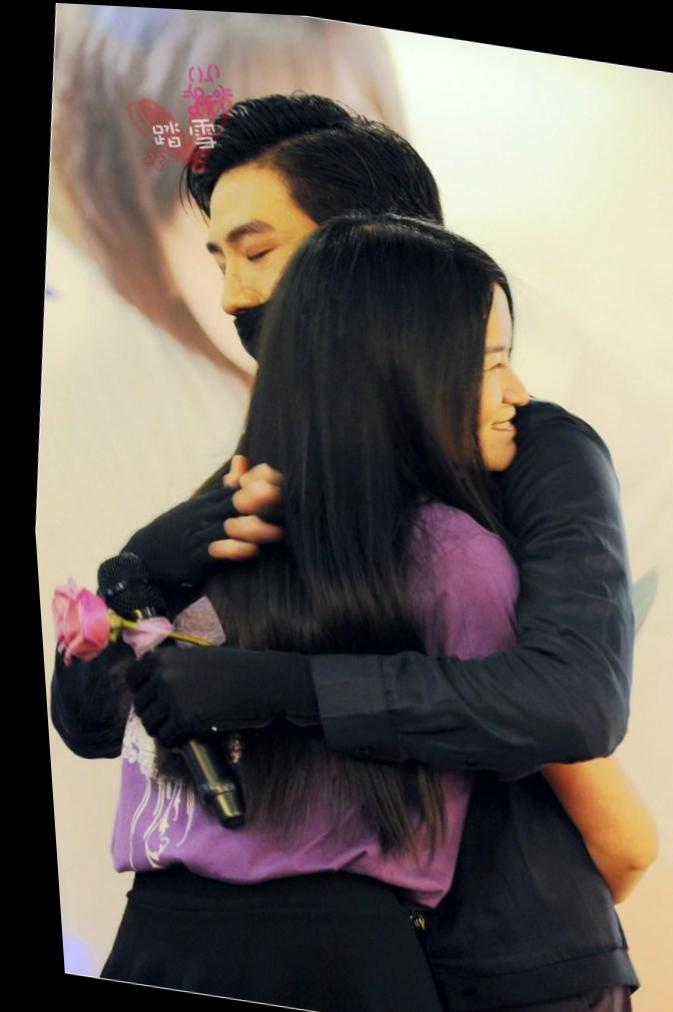NONE: (411, 302, 546, 478)
WRONG: (175, 199, 377, 399)
